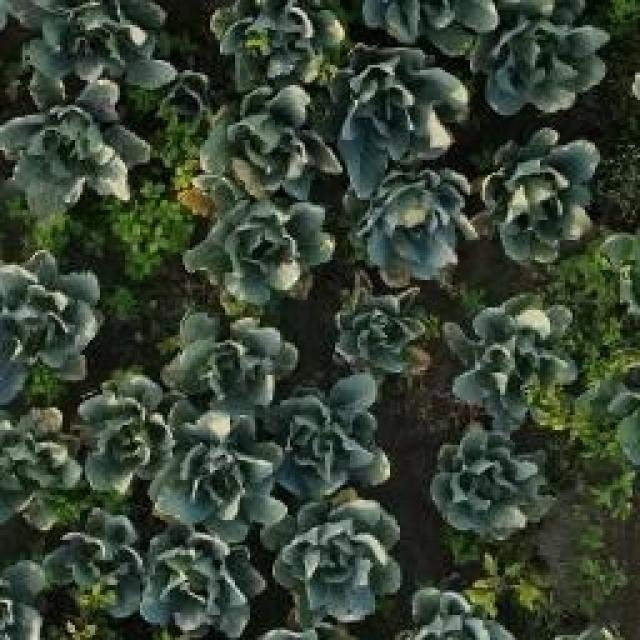cabbage: (0, 98, 144, 214), (195, 201, 335, 312), (196, 96, 336, 196), (490, 136, 598, 264), (350, 50, 470, 163), (155, 419, 278, 529), (281, 513, 398, 626), (455, 302, 565, 420), (205, 0, 342, 94), (278, 386, 392, 496), (165, 312, 292, 410), (42, 0, 177, 92), (426, 423, 541, 530), (144, 537, 262, 640), (364, 179, 475, 286), (0, 258, 95, 380), (45, 510, 151, 618), (482, 30, 610, 109), (334, 282, 431, 382), (75, 376, 166, 474)
